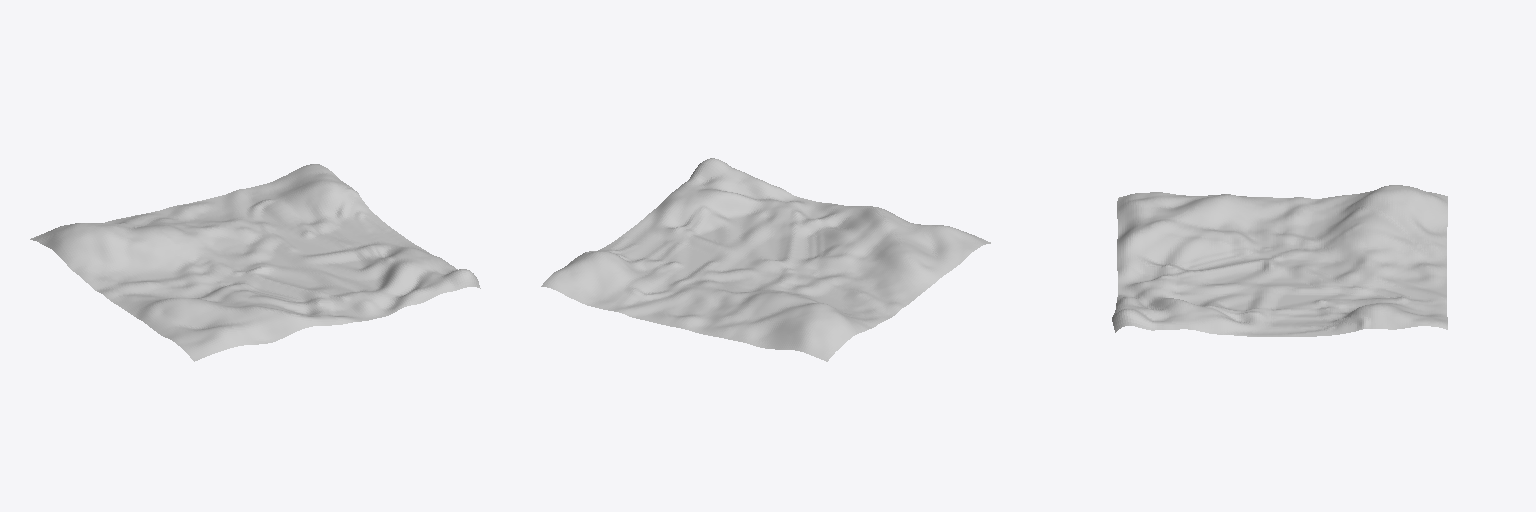
The model's file is map.obj.
3 views of the same model, side by side, from view 1: azimuth 30°, elevation 25°; view 2: azimuth 150°, elevation 25°; view 3: azimuth 270°, elevation 25° (orthographic).
Parts seen in each view (by area): view 1: Grid; view 2: Grid; view 3: Grid.
Part boxes in pixels (bbox=[...]): Grid: bbox=[30, 164, 480, 361]; Grid: bbox=[541, 158, 990, 361]; Grid: bbox=[1112, 185, 1447, 336].
Bounding box in the file's own units: 421 × 35.93 × 423.